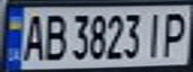2: (106, 10, 127, 61)
3: (66, 11, 90, 61), (121, 10, 145, 60)
8: (87, 11, 109, 61)
A: (18, 10, 48, 62)
B: (39, 10, 69, 62)
I: (142, 9, 169, 58)
P: (160, 8, 193, 59)
